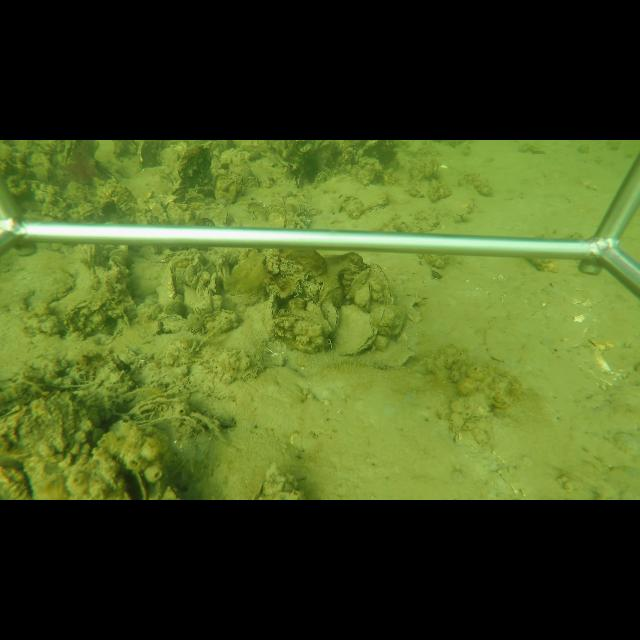Oyster-Closed: (336, 303, 379, 356), (368, 261, 395, 305), (158, 261, 179, 313), (264, 294, 279, 337)
